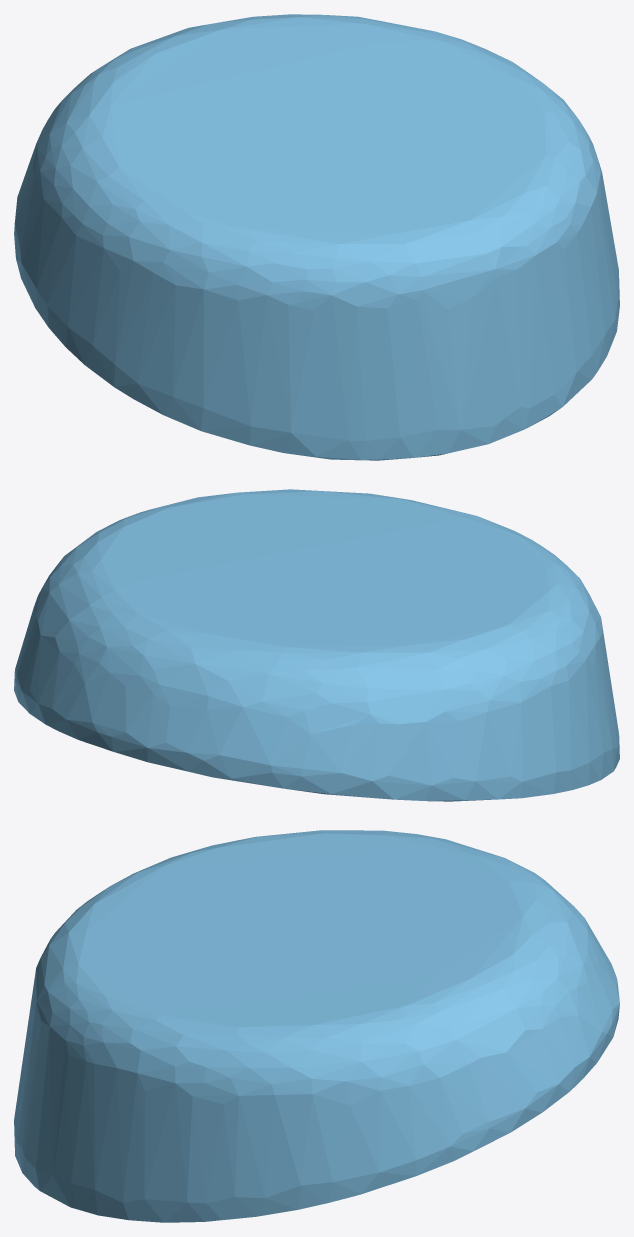
The model's file is ur3_link4_visible_vis_6.dae.
The picture shows the model from 3 angles, top to bottom: view 1: azimuth 30°, elevation 25°; view 2: azimuth 150°, elevation 25°; view 3: azimuth 270°, elevation 25°; orthographic projection.
Visible parts, largest first — view 1: Node_000002223FC9C980; view 2: Node_000002223FC9C980; view 3: Node_000002223FC9C980.
Boxes of the visible parts, <box> form: Node_000002223FC9C980: <box>14,14,619,460</box>; Node_000002223FC9C980: <box>14,489,619,801</box>; Node_000002223FC9C980: <box>14,830,619,1222</box>.
Size of the model in its own units: 0.0644 by 0.0273 by 0.0643.
